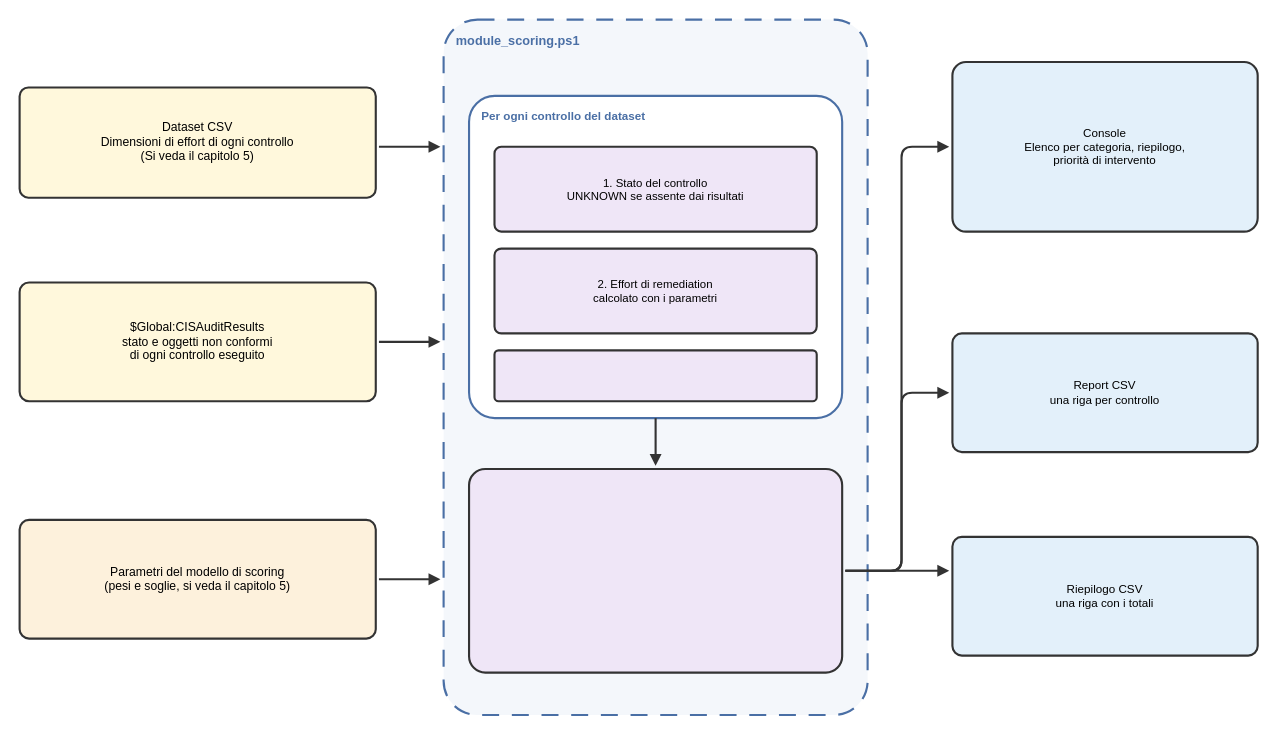
Image size: 1276x734. Some labels were removed from this diagram. Here are the shapes that lost their labels. From the top down, the centre of each, then its label:
At pixel 655 375: "3. Fascia: BASSO, MEDIO o ALTO".
At pixel 655 570: "Elenco dei risultati una voce per ogni controllo del dataset".
